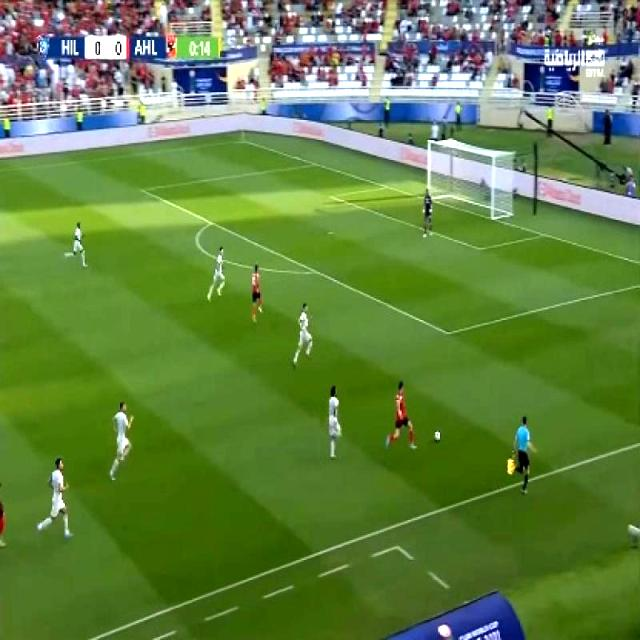bigarea_bottom_inner: (437, 322, 455, 343)
bigarea_top_inner: (134, 180, 149, 197)
bigarea_top_outter: (306, 156, 324, 170)
bottom_arc_area_intersection: (308, 262, 322, 280)
corner: (232, 134, 250, 146)
smallarea_bottom_inner: (471, 238, 486, 257)
smallarea_bottom_outter: (534, 224, 551, 242)
smallarea_top_inner: (322, 188, 342, 205)
smallarea_top_outter: (376, 178, 394, 194)
top_arc_area_intersection: (200, 212, 220, 231)
